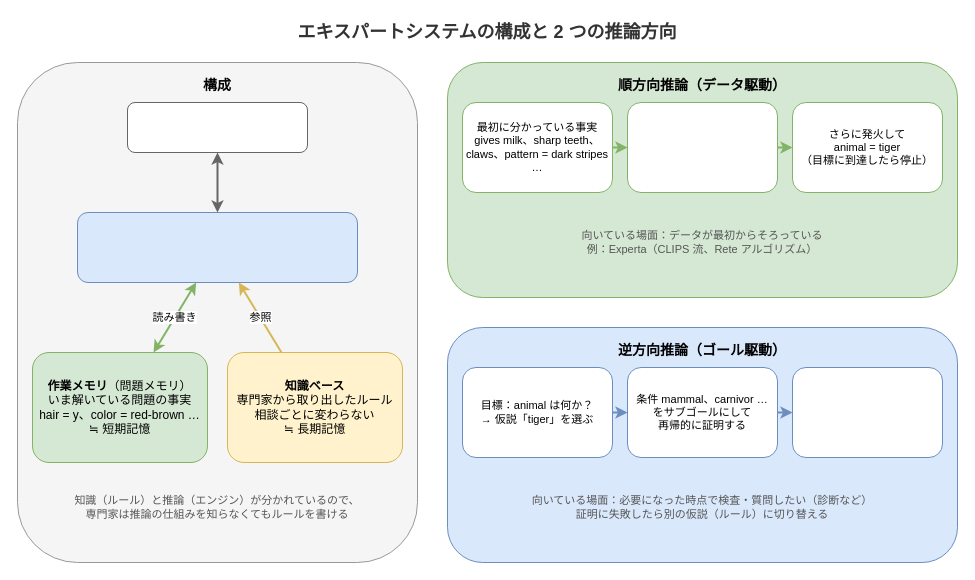
The diagram is 975 pixels wide and 580 high, and some of its shapes have lost their labels. Here are the shapes that lost their labels. From the top down, the centre of each, then its label:
At (x=217, y=127): "ユーザー （質問に答える）".
At (x=702, y=147): "条件を満たすルールが発火 → mammal、carnivor を 作業メモリに追加".
At (x=217, y=247): "推論エンジン 条件を満たすルールを探して適用 必要ならユーザーに質問する".
At (x=867, y=412): "導くルールがない事実だけ ユーザーに質問 「hair？ y/n」".
